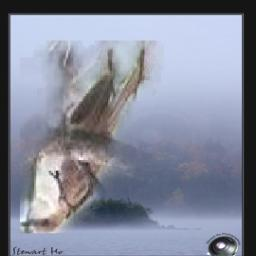Cuckoo: (20, 42, 164, 234)
